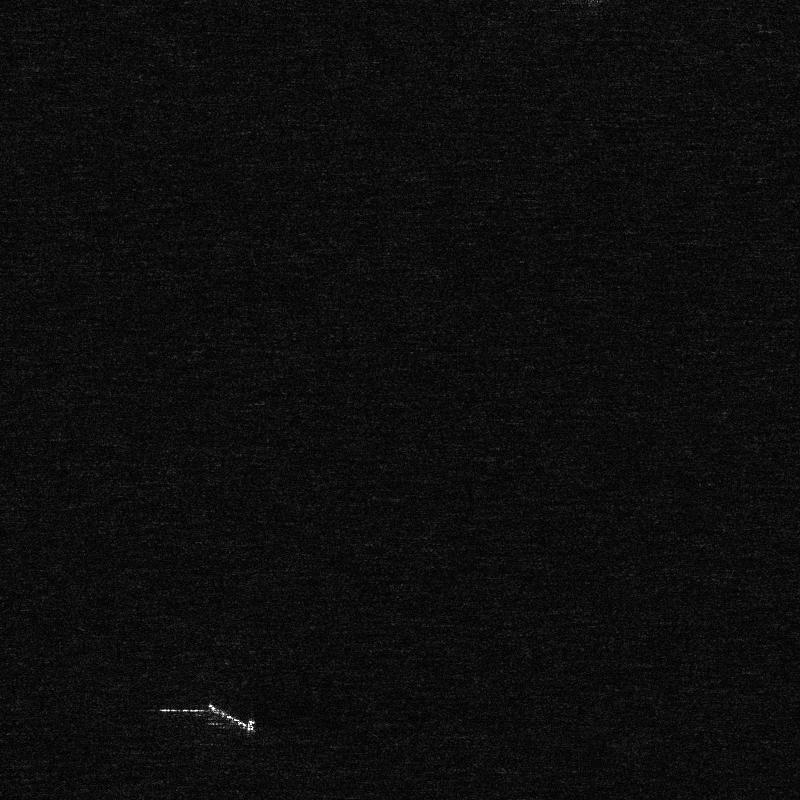ship: (208, 703, 254, 730)
